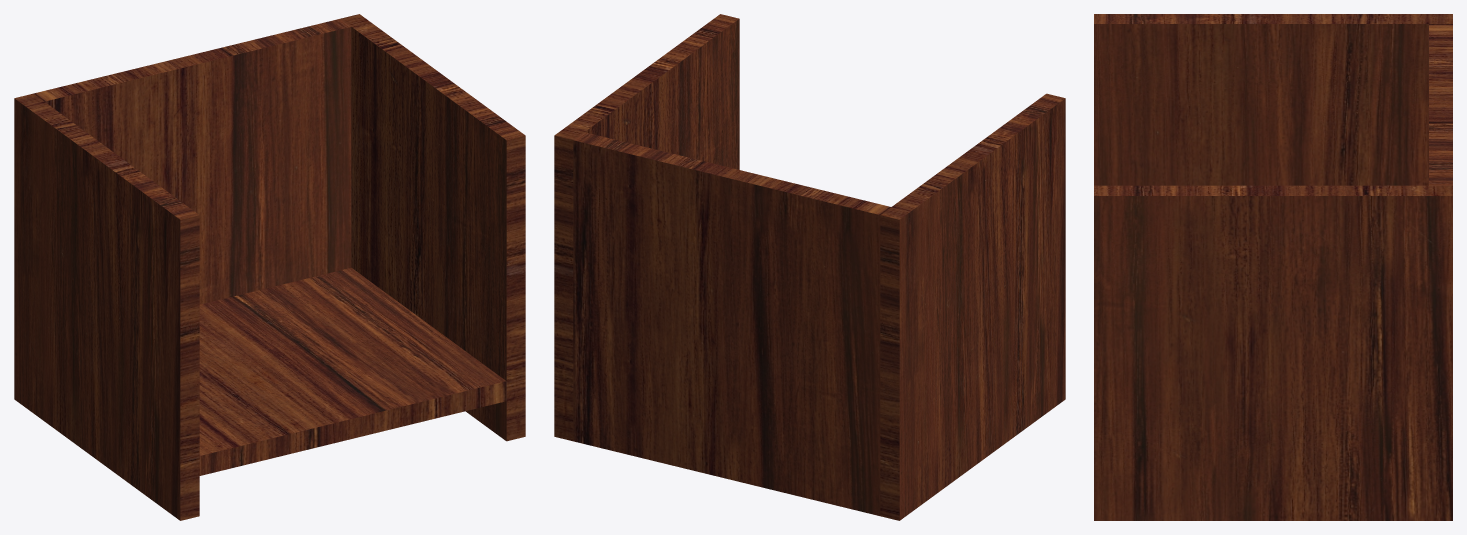
Rendered from Bag_Stand_Wood_02.glb.
3 renders of one model, left to right at view 1: azimuth 30°, elevation 25°; view 2: azimuth 150°, elevation 25°; view 3: azimuth 270°, elevation 25°, orthographic. The views are drawn at different scales.
Parts seen in each view (by area): view 1: Side_Right; view 2: Side_Right; view 3: Side_Right.
Part boxes in pixels (x1,y1,x2,y2): Side_Right: (14, 14, 525, 520); Side_Right: (554, 14, 1065, 520); Side_Right: (1094, 14, 1452, 520).
Bounding box in the file's own units: 0.36 × 0.3 × 0.3.
Materials: 1 (1 with a texture image).
